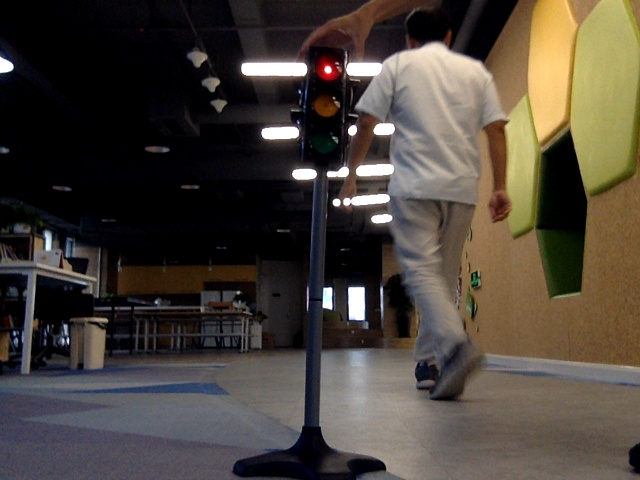red: (306, 52, 342, 160)
